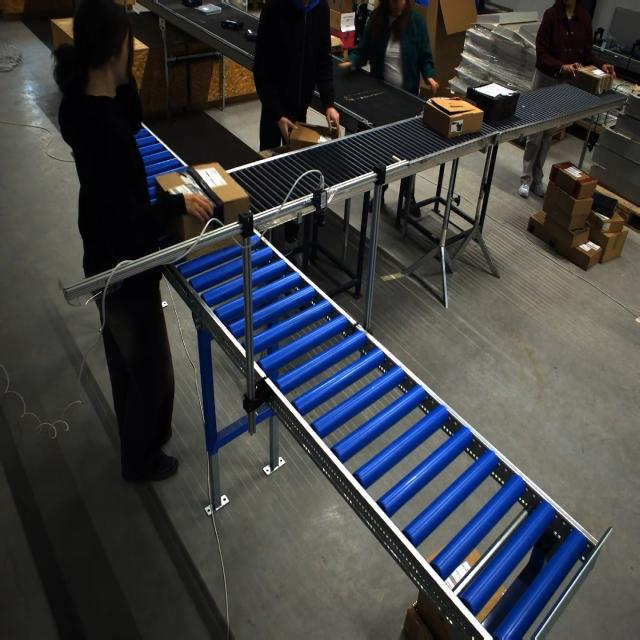box: (157, 161, 249, 256), (283, 111, 351, 165), (421, 95, 481, 138), (465, 82, 521, 124)
product: (194, 4, 222, 16), (221, 19, 244, 30), (244, 29, 258, 41)
